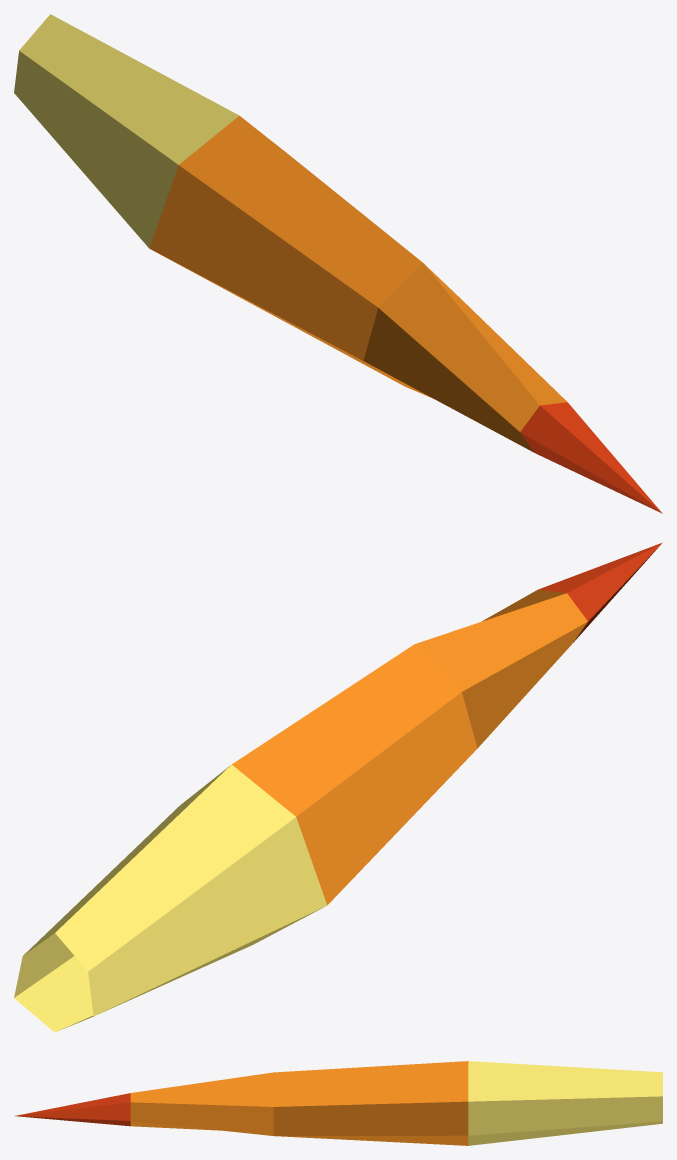
The picture shows the model from 3 angles, top to bottom: view 1: azimuth 30°, elevation 25°; view 2: azimuth 150°, elevation 25°; view 3: azimuth 270°, elevation 25°; orthographic projection. The views are drawn at different scales.
Parts seen in each view (by area): view 1: t11_g27_p2; view 2: t11_g27_p2; view 3: t11_g27_p2.
Boxes of the visible parts, x1=… form: t11_g27_p2: x1=14, y1=14, x2=662, y2=513; t11_g27_p2: x1=14, y1=542, x2=662, y2=1032; t11_g27_p2: x1=15, y1=1061, x2=662, y2=1145.
Size of the model in its own units: 1.71 by 1.94 by 12.65.
